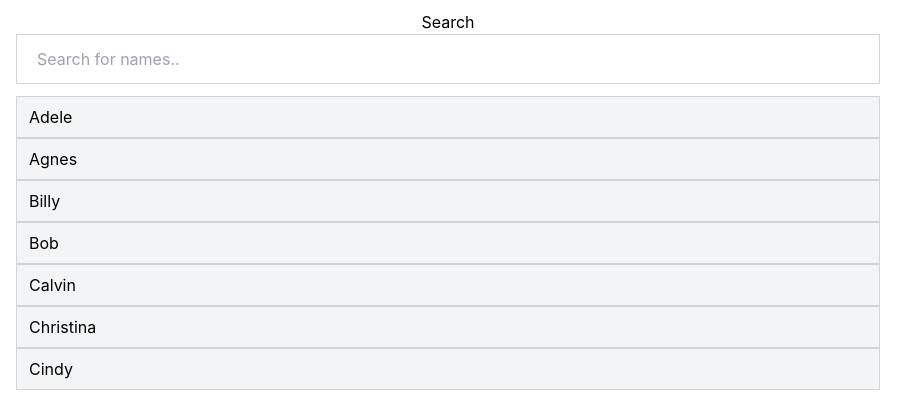
Test case: No matching data found
Type "xxx" into the field labelled "Search" at (448, 59), box top-left (16, 34), bottom-right (880, 84)
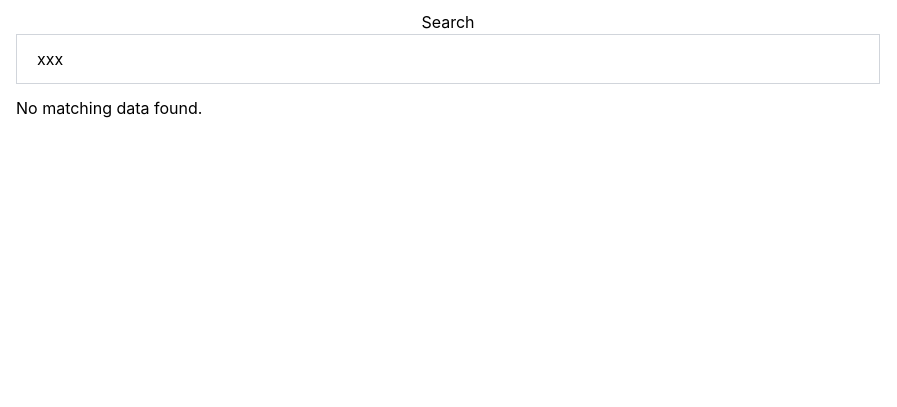
Expected: the text "No matching data found." is shown, top-left (16, 98), bottom-right (202, 118)
